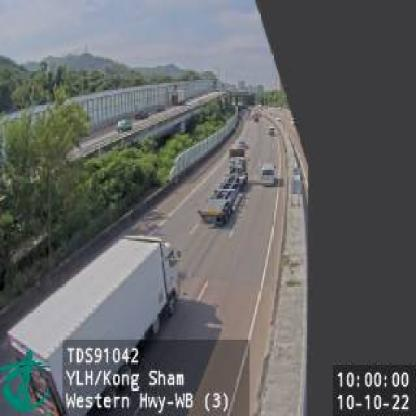Car: (260, 161, 279, 187), (267, 125, 277, 138)
Truck: (8, 234, 182, 404), (200, 144, 248, 225)
